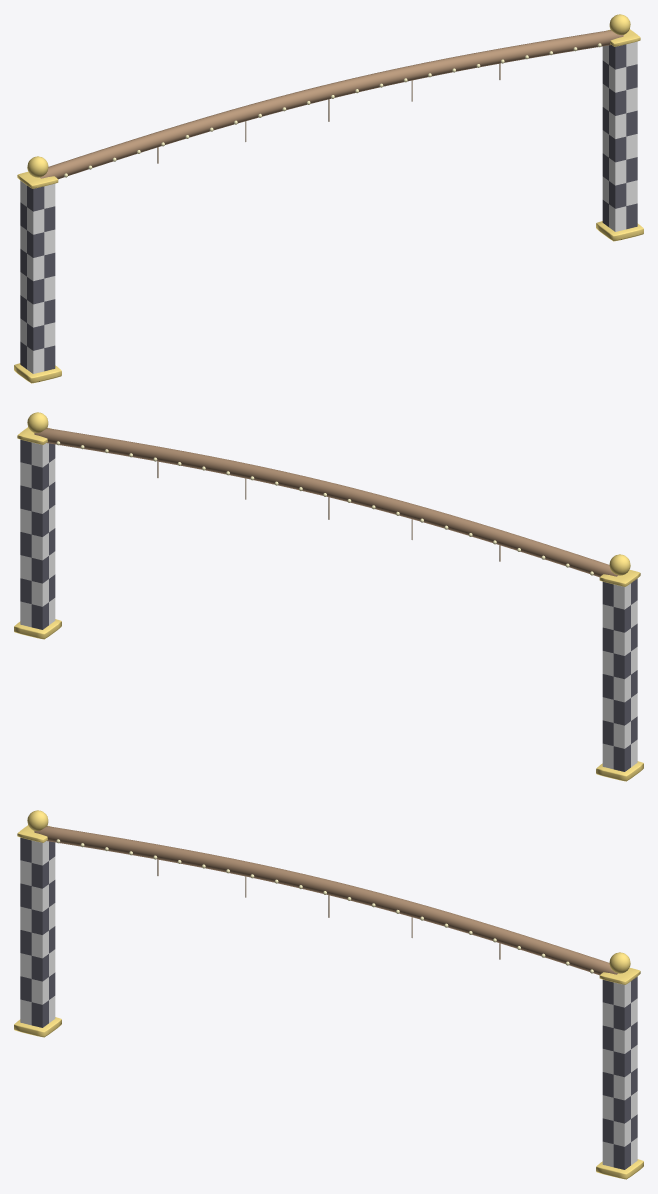
File: RockinRacewayArch.glb
3 views of the same model, one above another, from view 1: azimuth 30°, elevation 25°; view 2: azimuth 150°, elevation 25°; view 3: azimuth 330°, elevation 25° (orthographic).
Visible parts, largest first — view 1: Beam, CheckDark, CheckLight, Gold; view 2: Beam, CheckLight, CheckDark, Gold; view 3: Beam, CheckLight, CheckDark, Gold.
Boxes of the visible parts, <box> form: Beam: <box>39,30,623,179</box>; CheckDark: <box>20,44,637,371</box>; CheckLight: <box>20,41,637,373</box>; Gold: <box>14,14,643,383</box>; Beam: <box>34,428,618,577</box>; CheckLight: <box>20,442,637,769</box>; CheckDark: <box>20,439,637,771</box>; Gold: <box>14,412,643,781</box>; Beam: <box>34,826,618,975</box>; CheckLight: <box>20,840,637,1167</box>; CheckDark: <box>20,837,637,1169</box>; Gold: <box>14,810,643,1179</box>.
Bounding box in the file's own units: 66.4 × 22.6 × 3.4.
